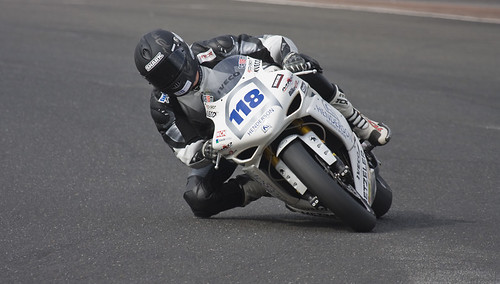helmet: (132, 24, 200, 97)
